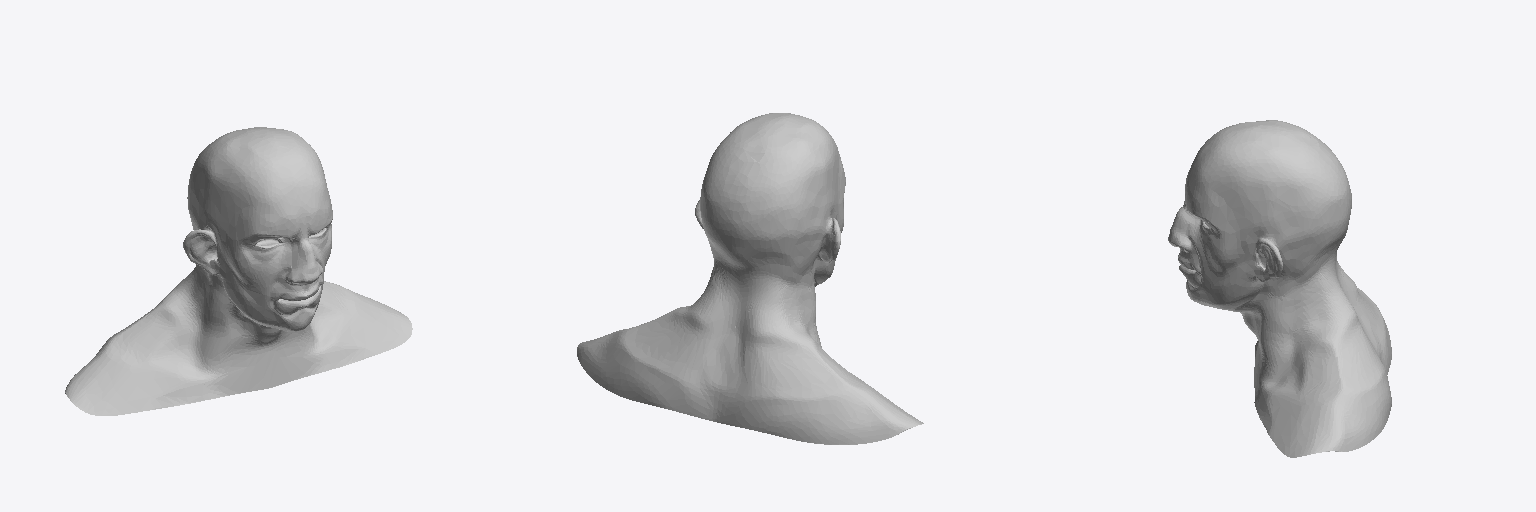
File: Thug01_head.OBJ
The picture shows the model from 3 angles: view 1: azimuth 30°, elevation 25°; view 2: azimuth 150°, elevation 25°; view 3: azimuth 270°, elevation 25°; orthographic projection.
Visible parts, largest first — view 1: Group30019; view 2: Group30019; view 3: Group30019.
Boxes of the visible parts, x1=… form: Group30019: x1=65, y1=127, x2=412, y2=415; Group30019: x1=577, y1=113, x2=923, y2=444; Group30019: x1=1168, y1=120, x2=1391, y2=457.
Bounding box in the file's own units: 4.66 × 3.36 × 2.67.